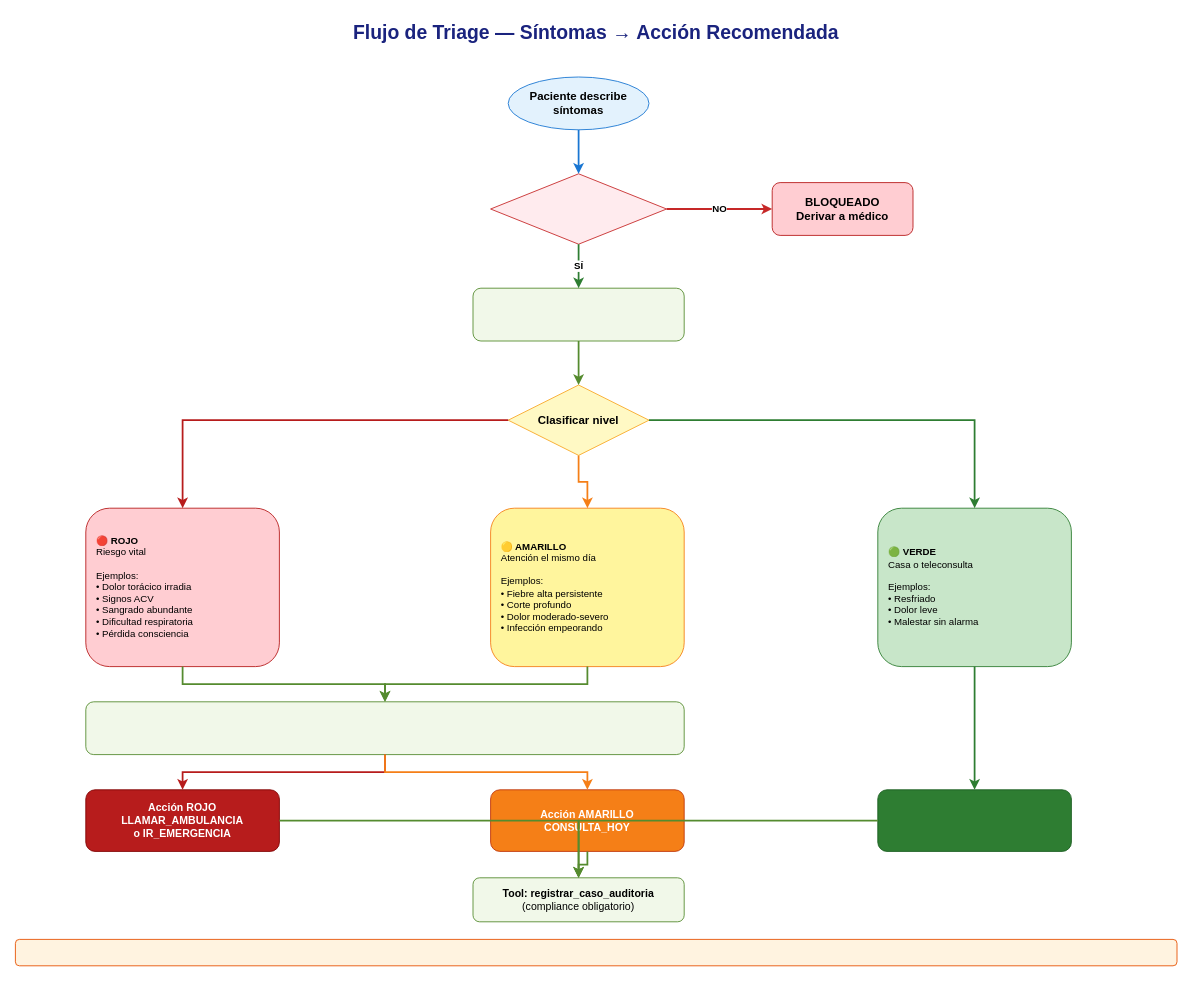
Some shapes in this 1192 by 981 pixel diagram are drawn without their labels. The shapes that lost their labels are listed below. From the top down, each one's centre as x and y in pixels, then its label:
At (x=578, y=208): "¿Es petición de TRIAGE? (no diagnóstico/receta)".
At (x=578, y=314): "Tool: consultar_protocolo_minsa Validar contra Manchester".
At (x=384, y=728): "Tool: buscar_hospital_cercano (ROJO → capacidad alta) (AMARILLO → espera menor)".
At (x=974, y=820): "Acción VERDE TELECONSULTA o AUTOCUIDADO".
At (x=596, y=952): "Regla de oro: si confianza < 0.85 → requiere_medico=True (escalamiento humano)".
